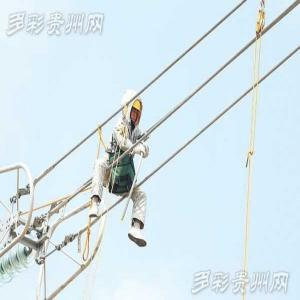yellow: (123, 95, 141, 125)
